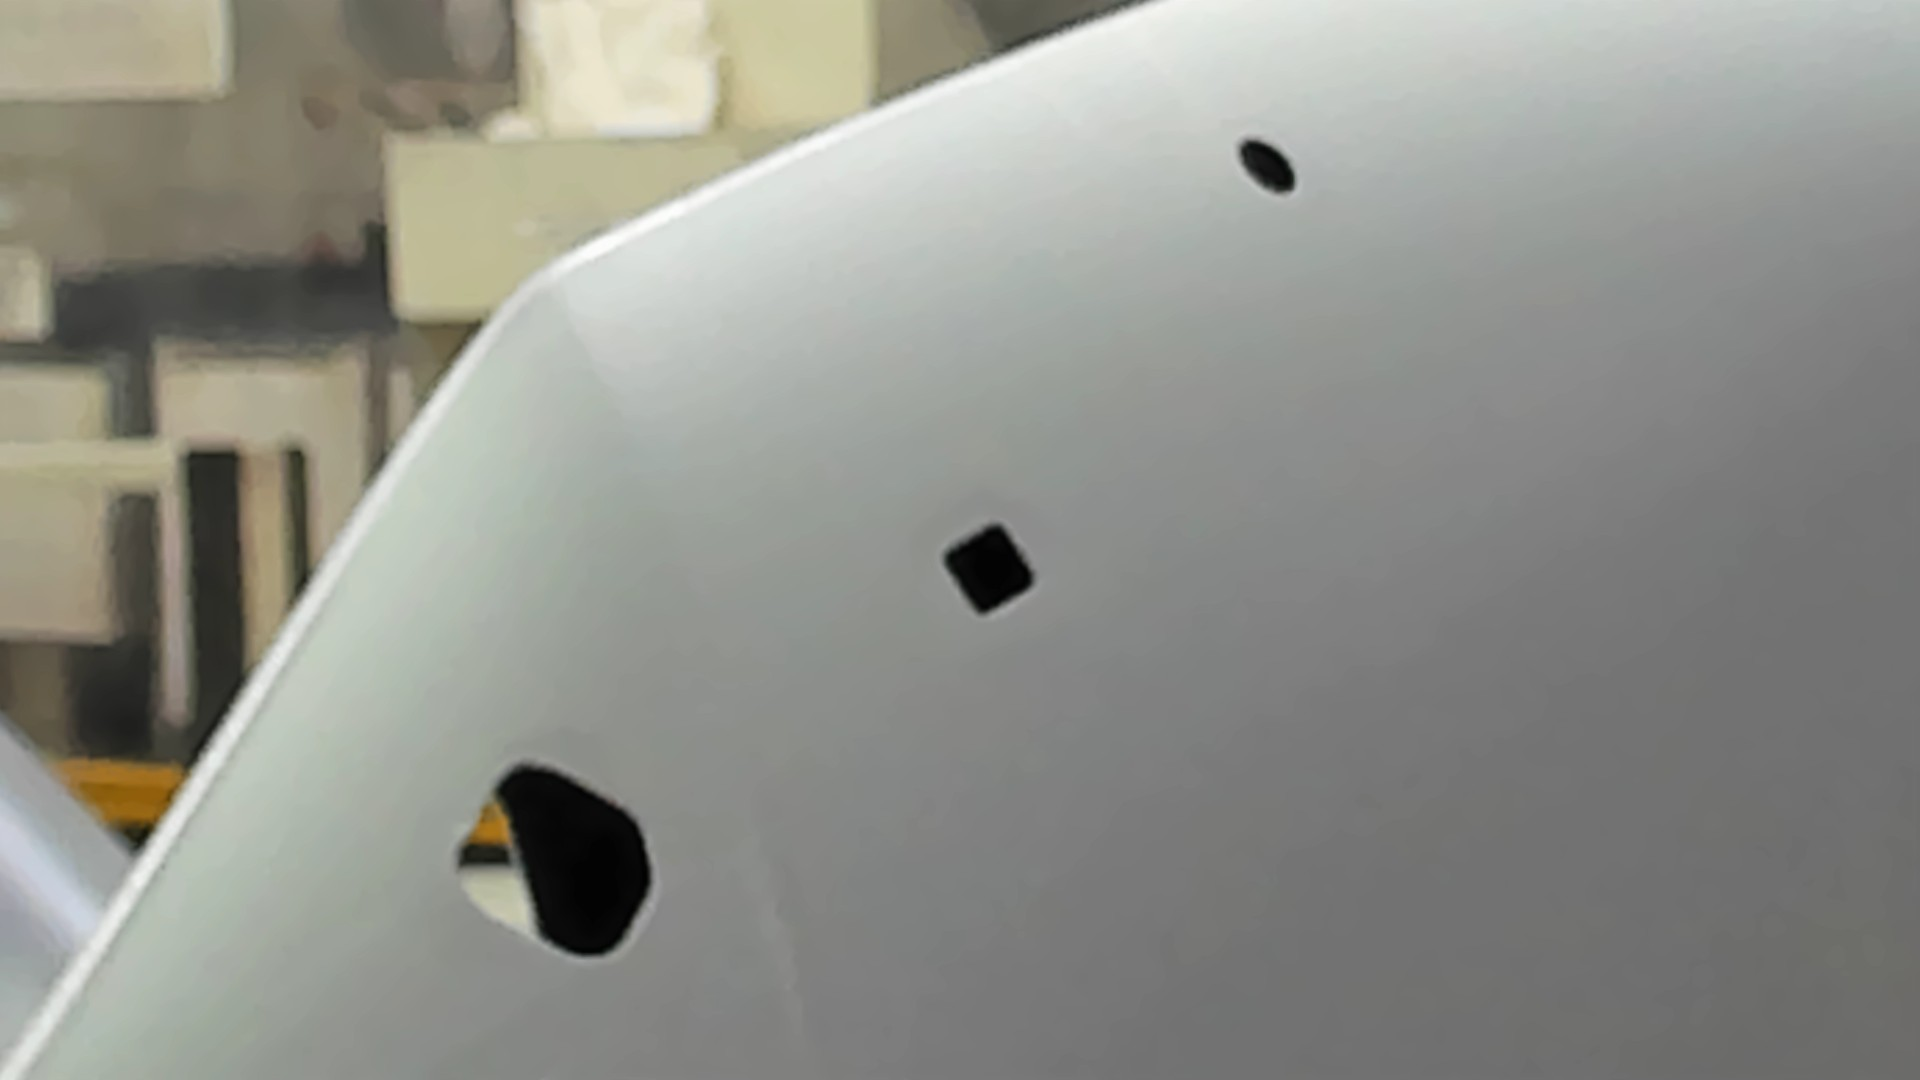chico: (1233, 136, 1303, 202)
grande: (450, 757, 658, 971)
mediano: (934, 513, 1040, 622)
